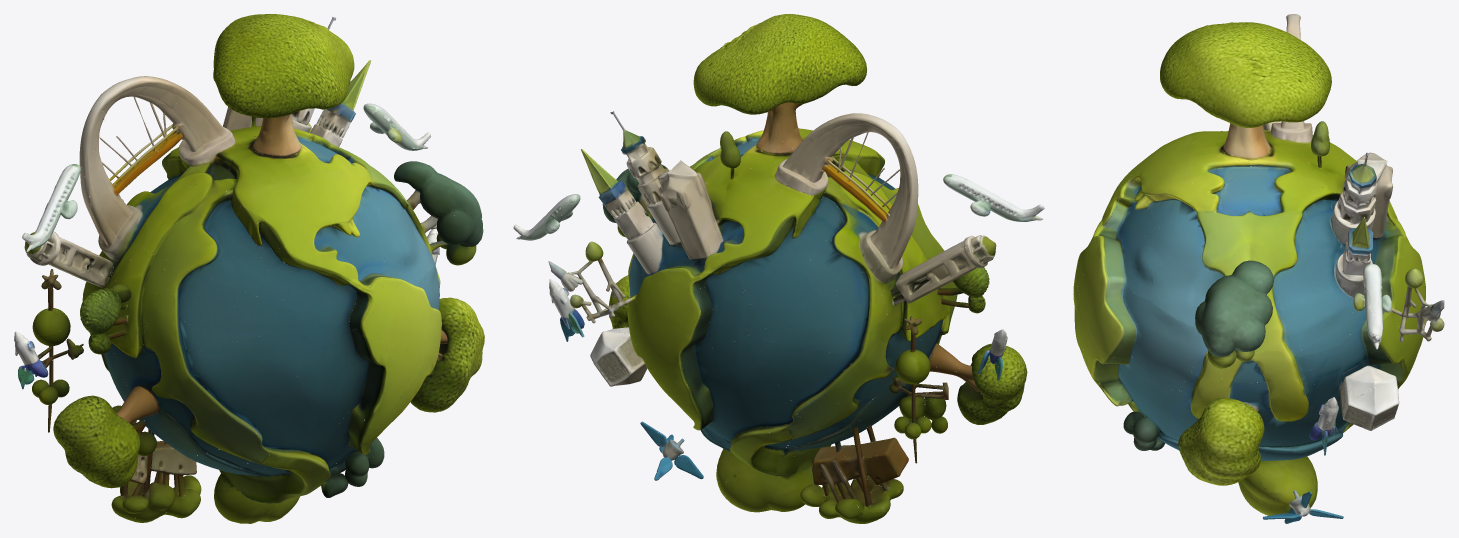
File: planeta.glb
The picture shows the model from 3 angles, left to right: view 1: azimuth 30°, elevation 25°; view 2: azimuth 150°, elevation 25°; view 3: azimuth 270°, elevation 25°; orthographic projection. The views are drawn at different scales.
Parts seen in each view (by area): view 1: SM_Planeta; view 2: SM_Planeta; view 3: SM_Planeta.
Part boxes in pixels (x1=…): SM_Planeta: x1=14, y1=14, x2=484, y2=523; SM_Planeta: x1=513, y1=14, x2=1044, y2=523; SM_Planeta: x1=1073, y1=14, x2=1444, y2=523.
Size of the model in its own units: 2.81 by 2.79 by 1.94.
1 material, 1 textured.
